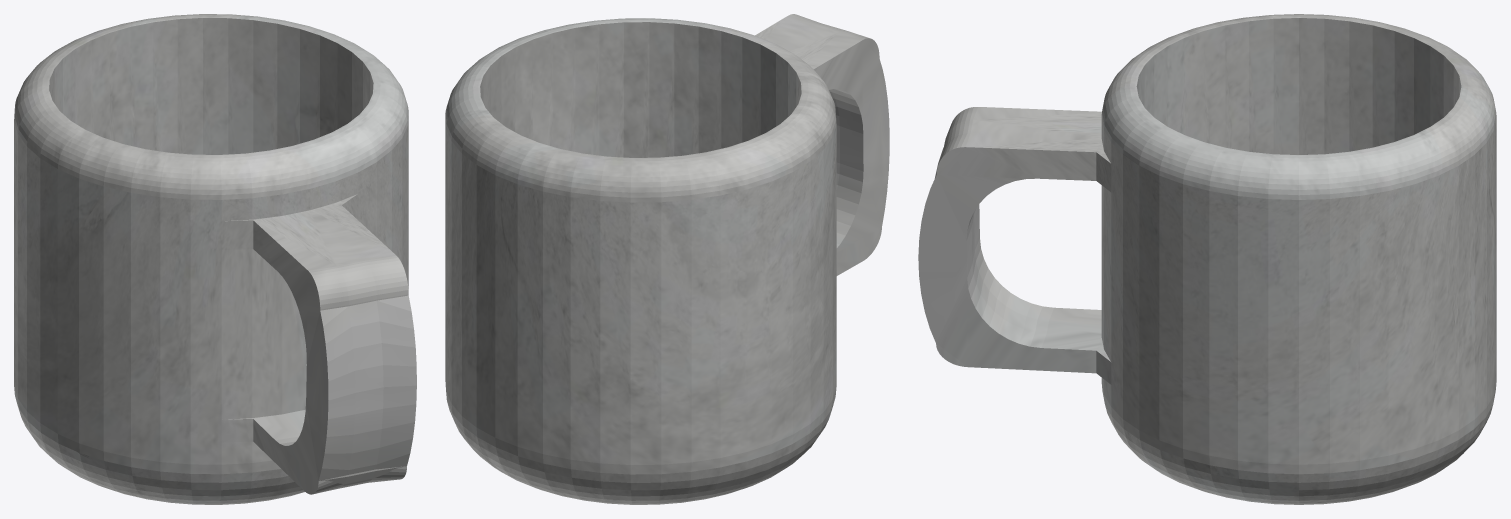
The model's file is Mug.fbx.
3 renders of one model, left to right at view 1: azimuth 30°, elevation 25°; view 2: azimuth 150°, elevation 25°; view 3: azimuth 270°, elevation 25°, orthographic.
Parts seen in each view (by area): view 1: Mug; view 2: Mug; view 3: Mug.
Boxes of the visible parts, box(x1,y1,x2,y2) form: Mug: box(14, 14, 416, 504); Mug: box(445, 14, 889, 504); Mug: box(918, 14, 1496, 504).
Size of the model in its own units: 10 by 10 by 14.64.
1 material, 1 textured.
